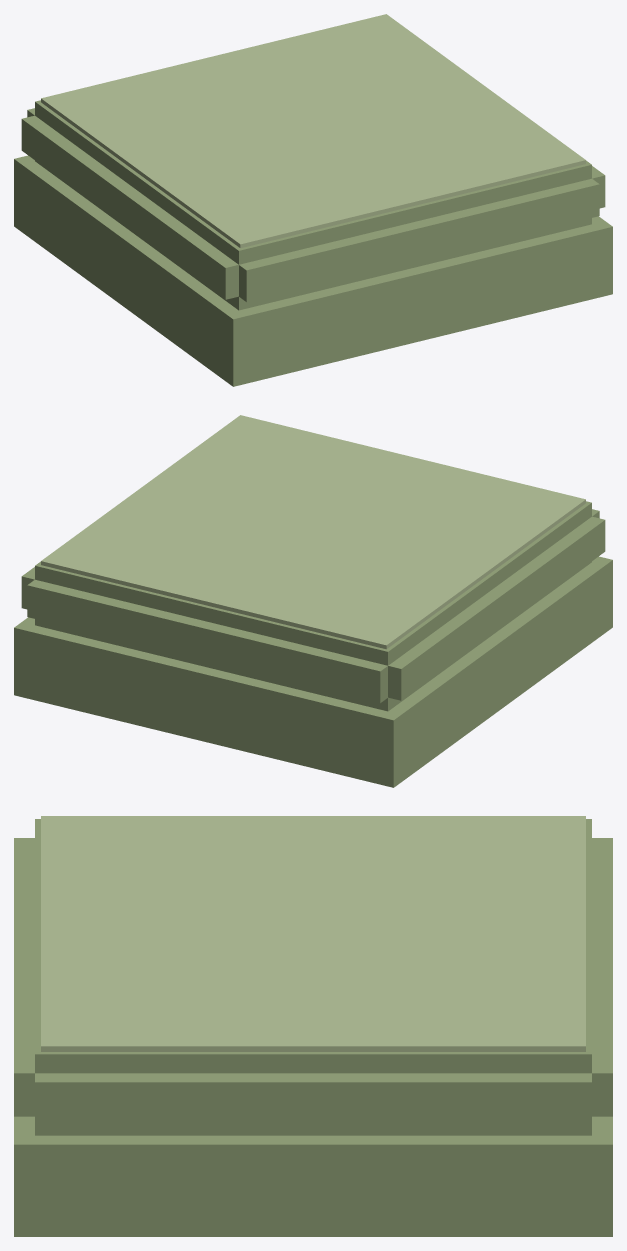
Rendered from Block_Grass.glb.
3 renders of one model, top to bottom at view 1: azimuth 30°, elevation 25°; view 2: azimuth 150°, elevation 25°; view 3: azimuth 270°, elevation 25°, orthographic. The views are drawn at different scales.
Visible parts, largest first — view 1: geometry_0; view 2: geometry_0; view 3: geometry_0.
Boxes of the visible parts, x1,y1,x2,y2 form: geometry_0: [14, 14, 612, 386]; geometry_0: [14, 415, 612, 787]; geometry_0: [14, 816, 612, 1236].
Bounding box in the file's own units: 2 × 0.66 × 2.
